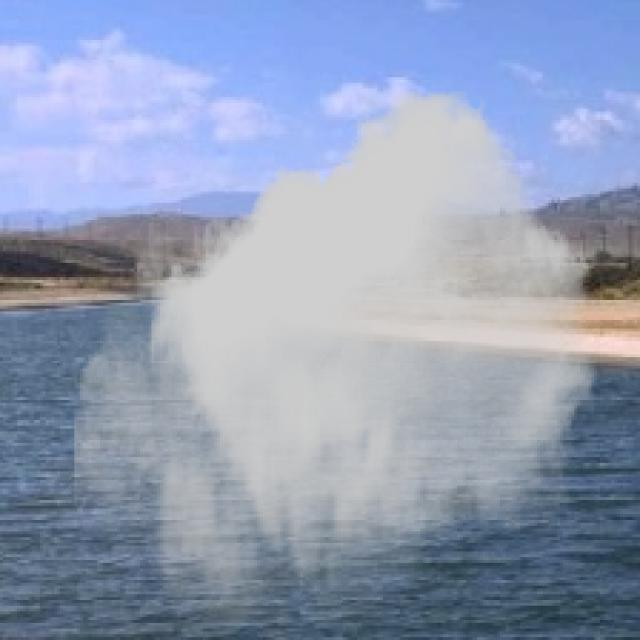Smoke: (74, 91, 597, 626)
